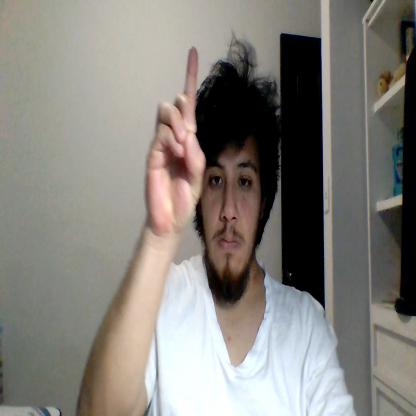D: (144, 48, 205, 236)
